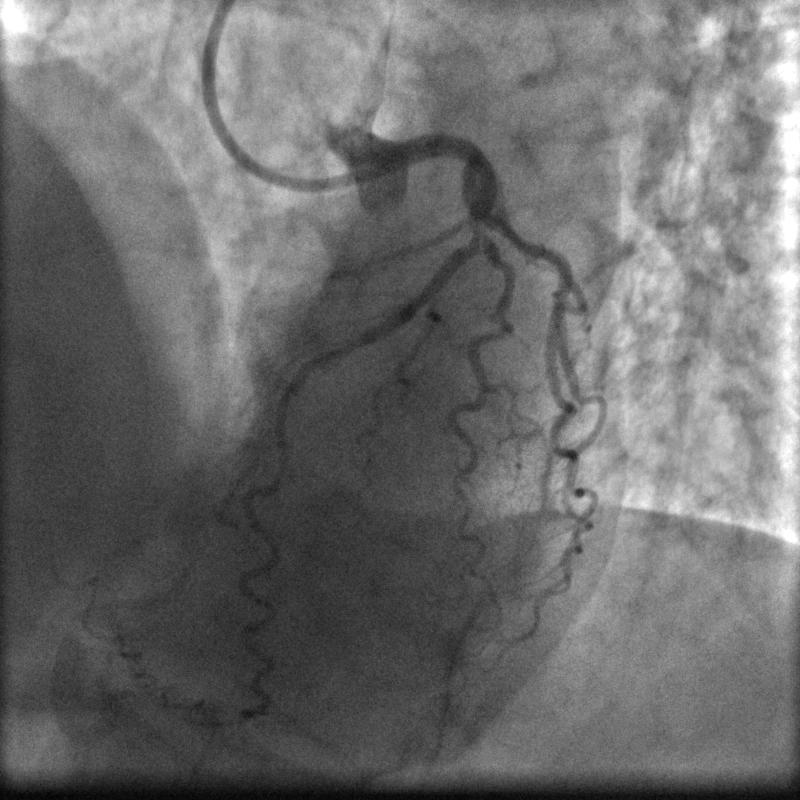Stenosis: (463, 213, 494, 241)
